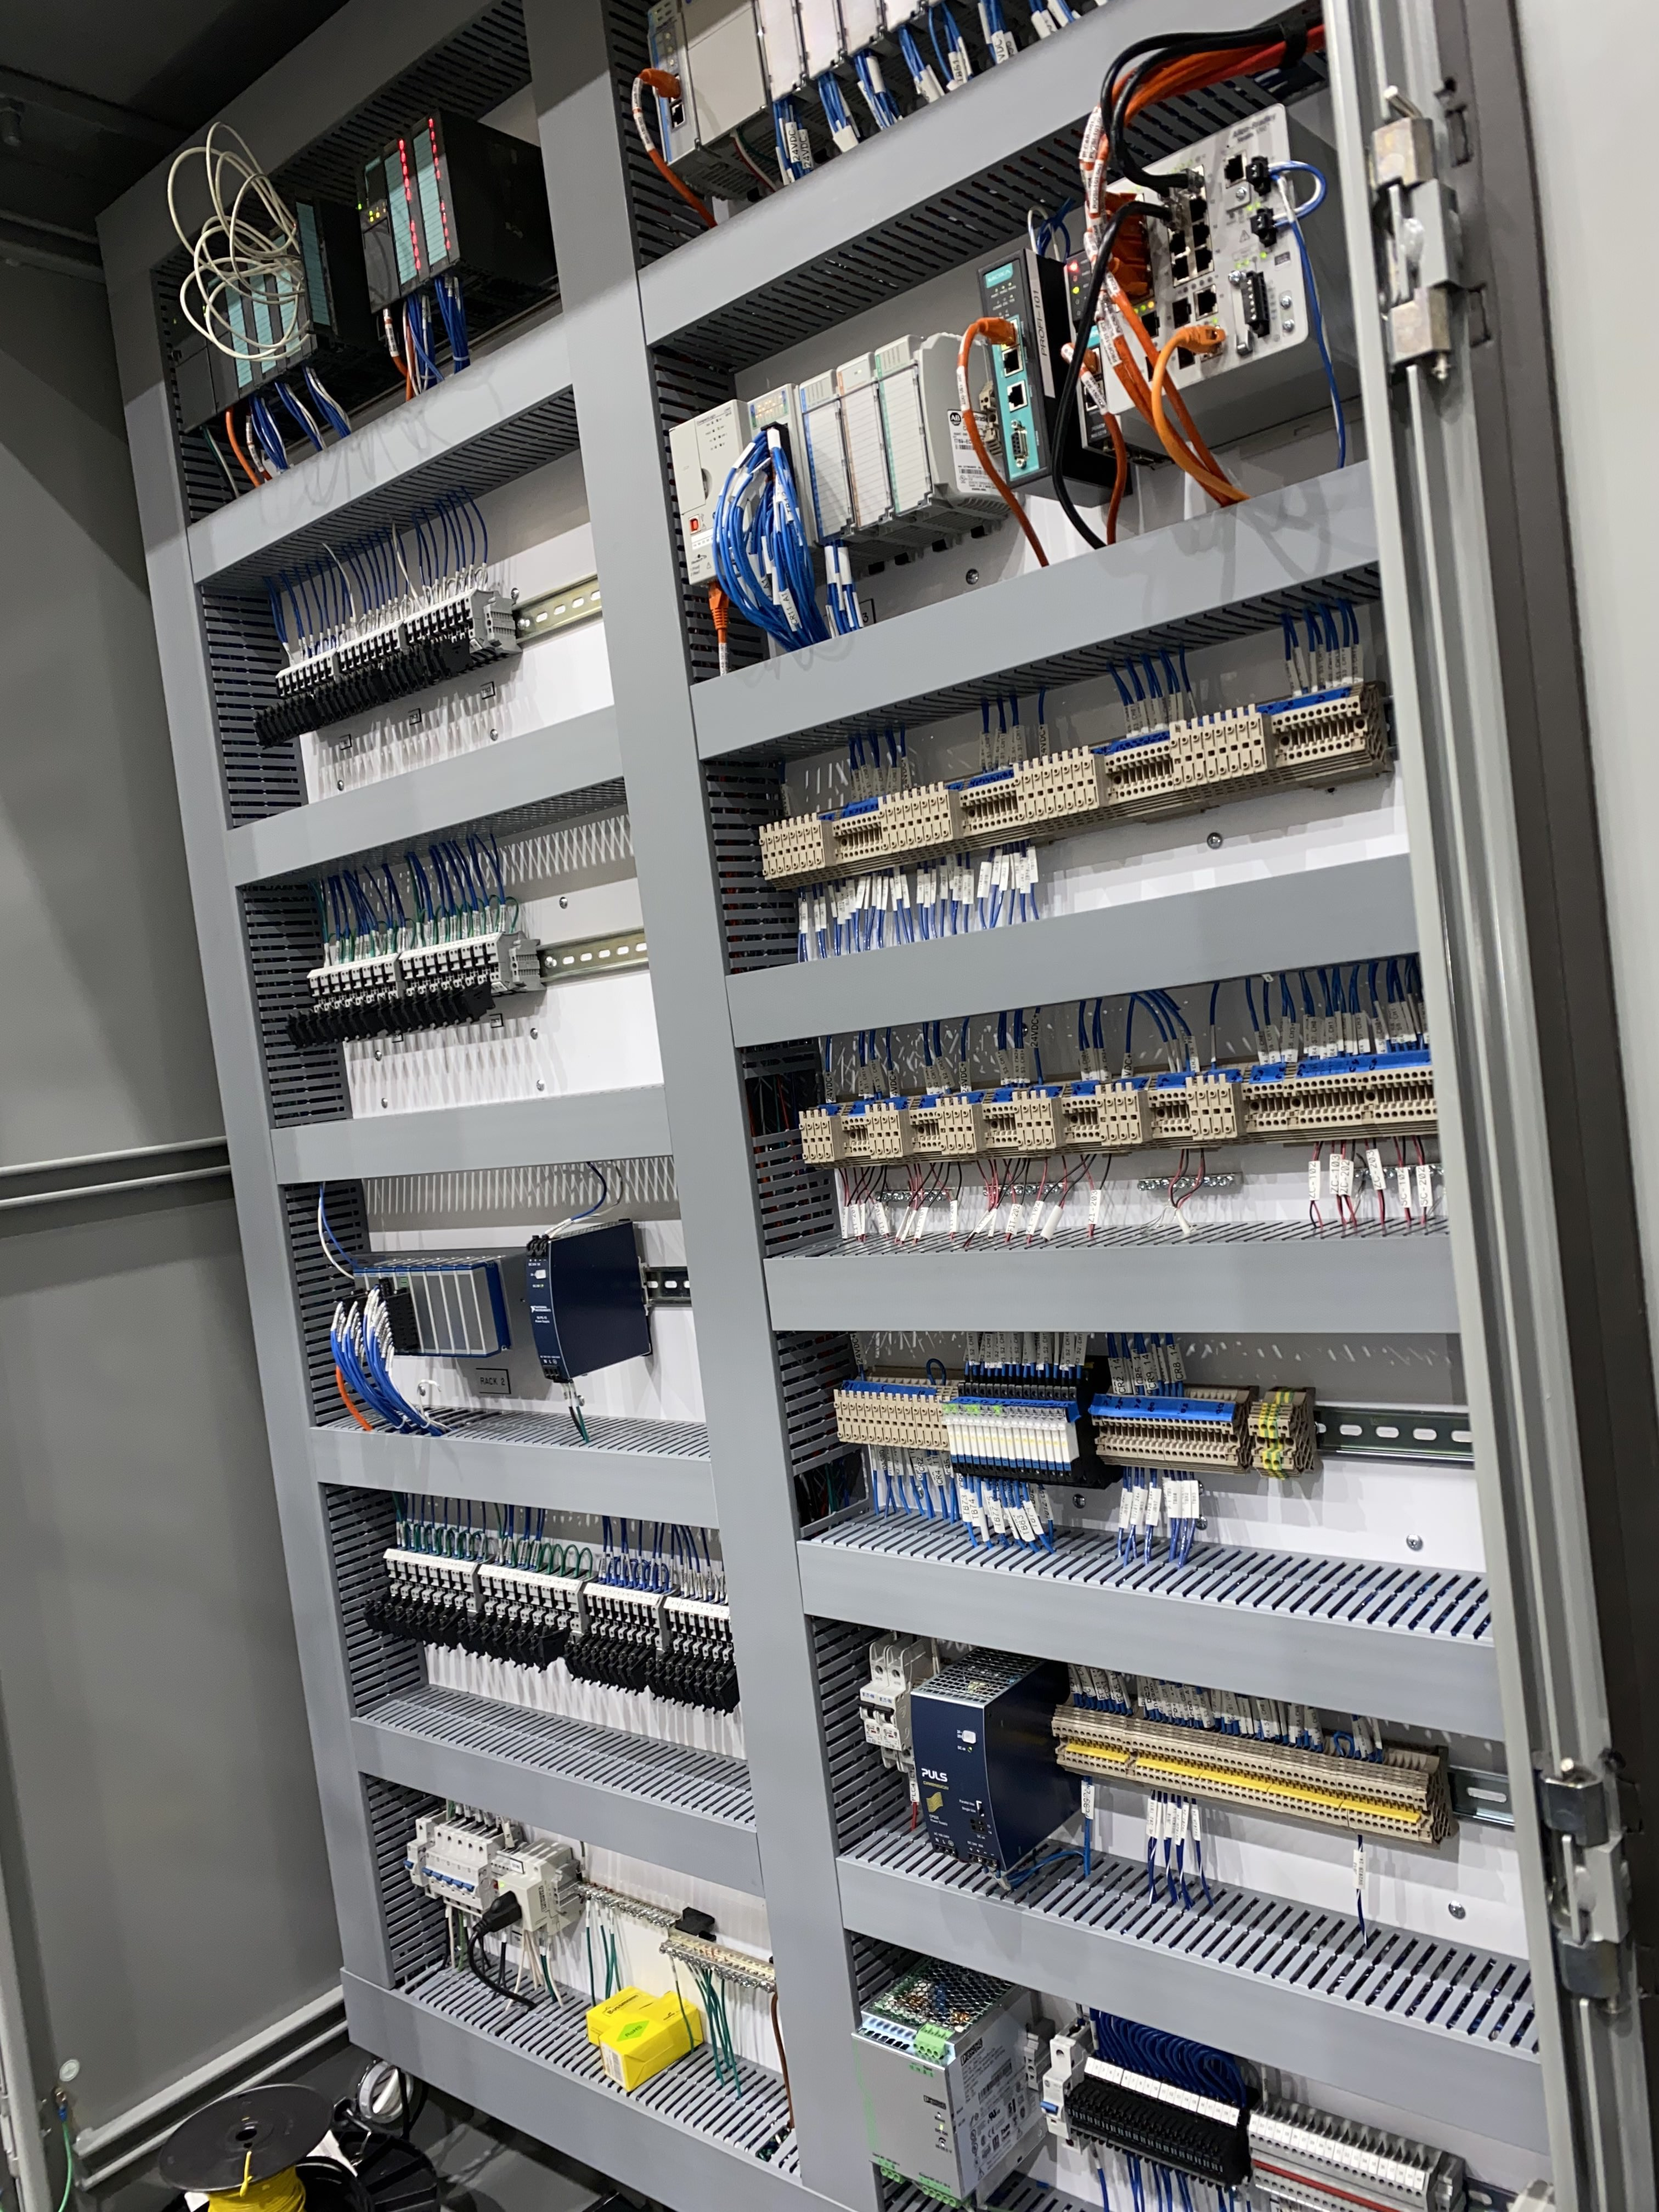AllenBradley: (662, 373, 760, 597)
Siemens: (192, 261, 242, 420)
